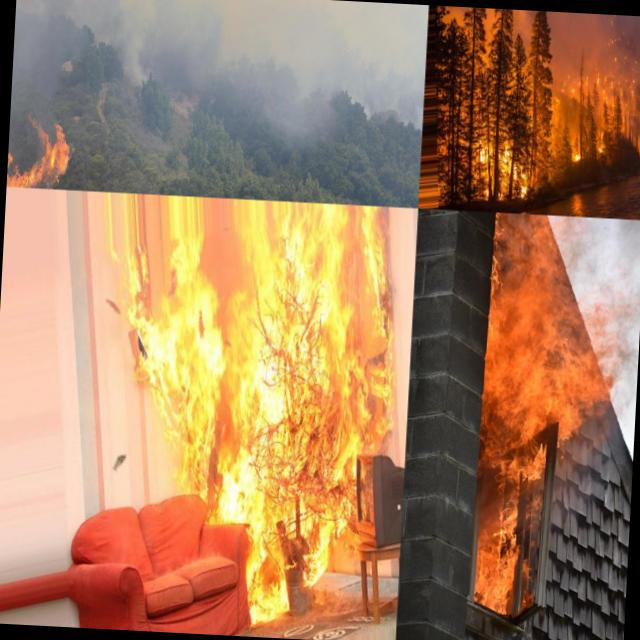fire: (242, 240, 397, 627), (108, 237, 263, 454), (482, 290, 609, 444), (471, 439, 552, 609), (553, 40, 640, 126), (7, 100, 75, 190), (490, 214, 564, 292), (207, 453, 250, 523), (176, 452, 209, 498), (511, 159, 531, 204), (571, 146, 585, 168), (594, 140, 608, 158)
smoke: (73, 0, 429, 139), (11, 0, 82, 106), (561, 216, 640, 297), (604, 295, 640, 414), (536, 11, 640, 46), (428, 5, 538, 28)
